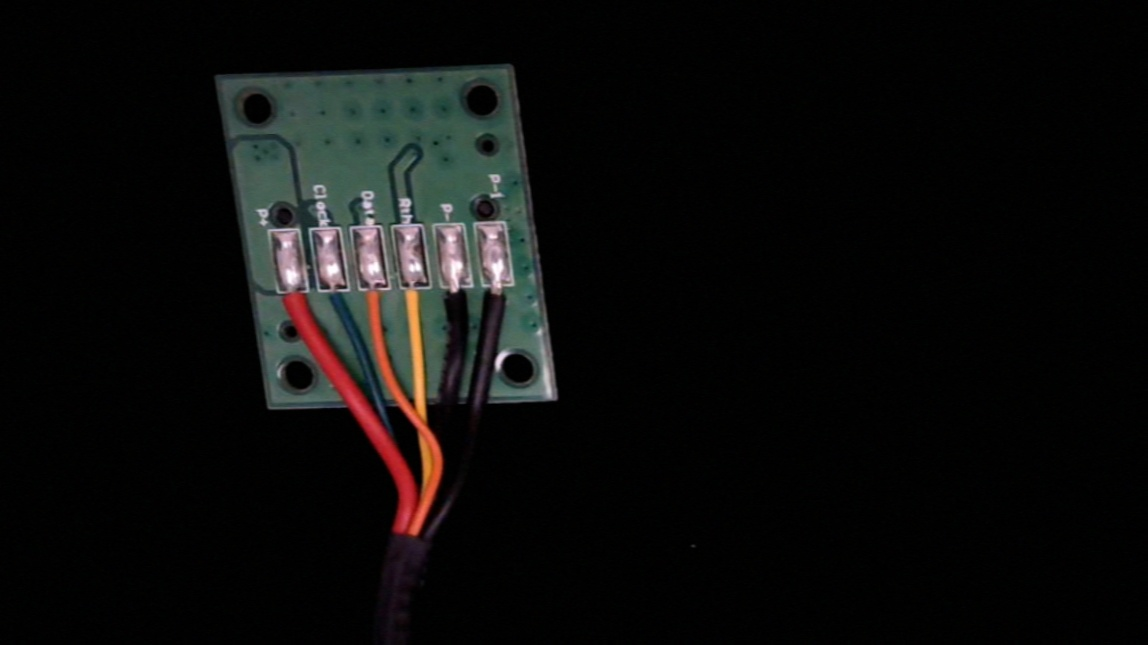Black: (436, 273, 480, 346)
Black1: (481, 273, 523, 340)
Green: (315, 276, 359, 346)
Orange: (355, 275, 397, 347)
Red: (276, 276, 320, 346)
Yellow: (396, 275, 439, 349)
